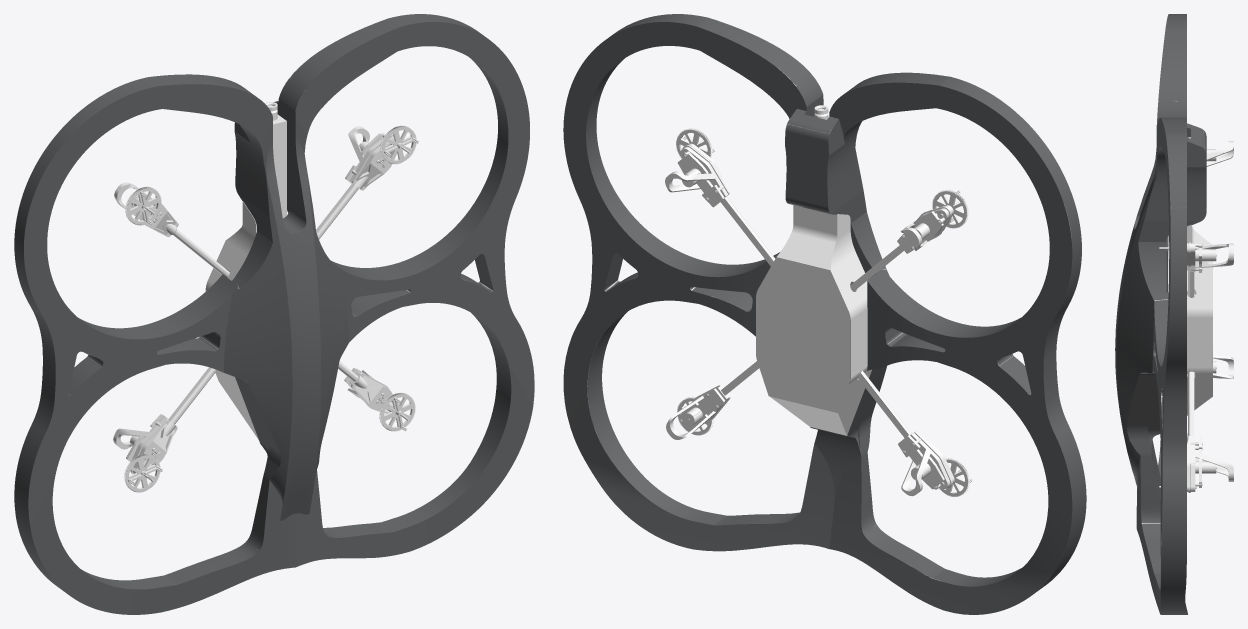
Rendered from uav.obj.
The picture shows the model from 3 angles, left to right: view 1: azimuth 30°, elevation 25°; view 2: azimuth 150°, elevation 25°; view 3: azimuth 270°, elevation 25°; orthographic projection. The views are drawn at different scales.
Parts seen in each view (by area): view 1: Indoor_Hull_1_Untitled.017; view 2: Indoor_Hull_1_Untitled.017; view 3: Indoor_Hull_1_Untitled.017.
Part boxes in pixels (x1=…): Indoor_Hull_1_Untitled.017: x1=14, y1=14, x2=534, y2=614; Indoor_Hull_1_Untitled.017: x1=563, y1=14, x2=1086, y2=614; Indoor_Hull_1_Untitled.017: x1=1115, y1=14, x2=1233, y2=614.
Size of the model in its own units: 509 by 502 by 116.
Materials: 1 (1 with a texture image).
